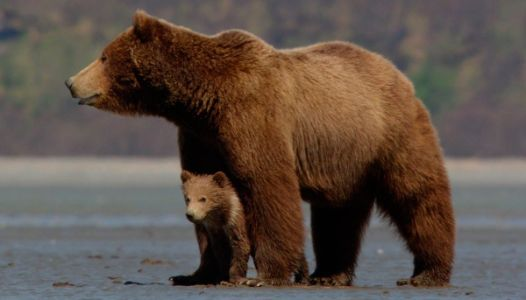bear: (62, 7, 464, 295), (178, 167, 253, 278)
